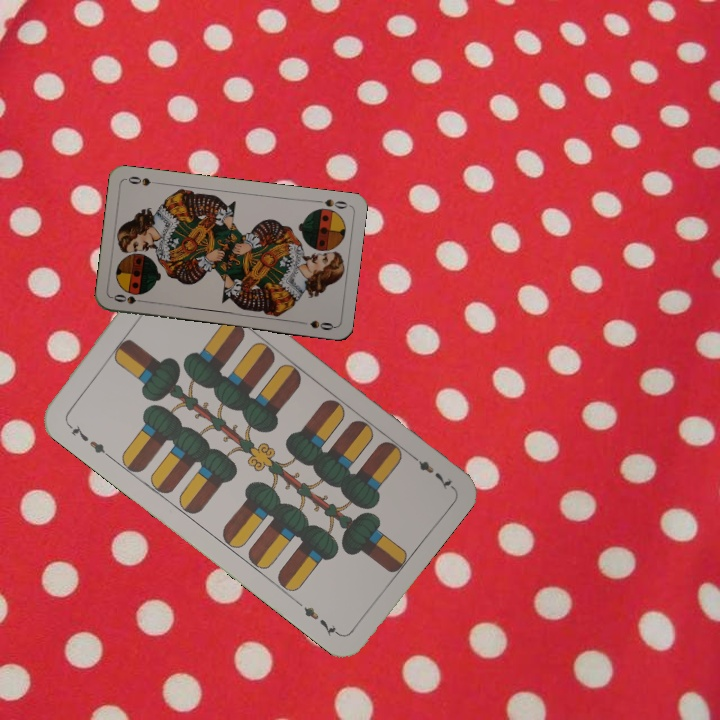E7: (405, 449, 455, 493), (62, 417, 112, 460)
SO: (109, 290, 150, 306), (311, 195, 350, 211)
